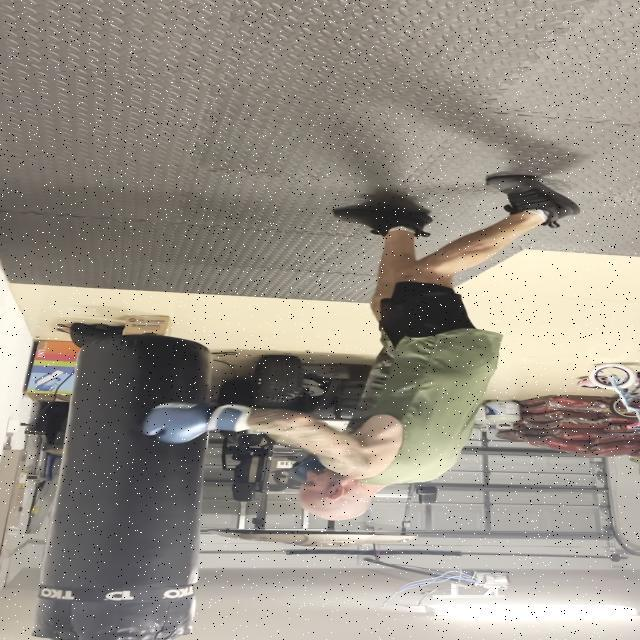bag: (51, 335, 207, 640)
hook: (125, 379, 492, 528)
